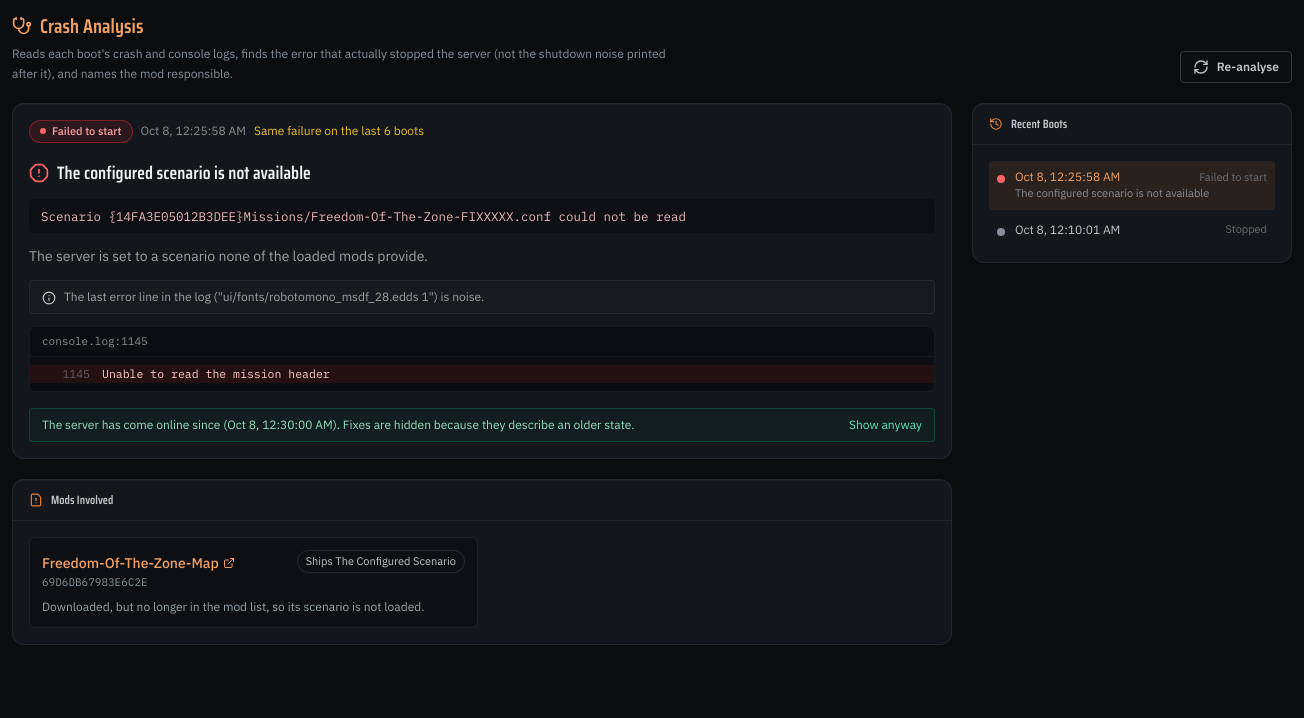
Test: CrashAnalysisModule › hides fixes for a failure the server has since recovered from
The image size is (1304, 718).
Expected: the text "has come online since" is shown, [42,417,227,432]
Expected: the button "Apply" is not shown
Click the button "Show anyway": coordinates (885, 425) [849,417,922,433]
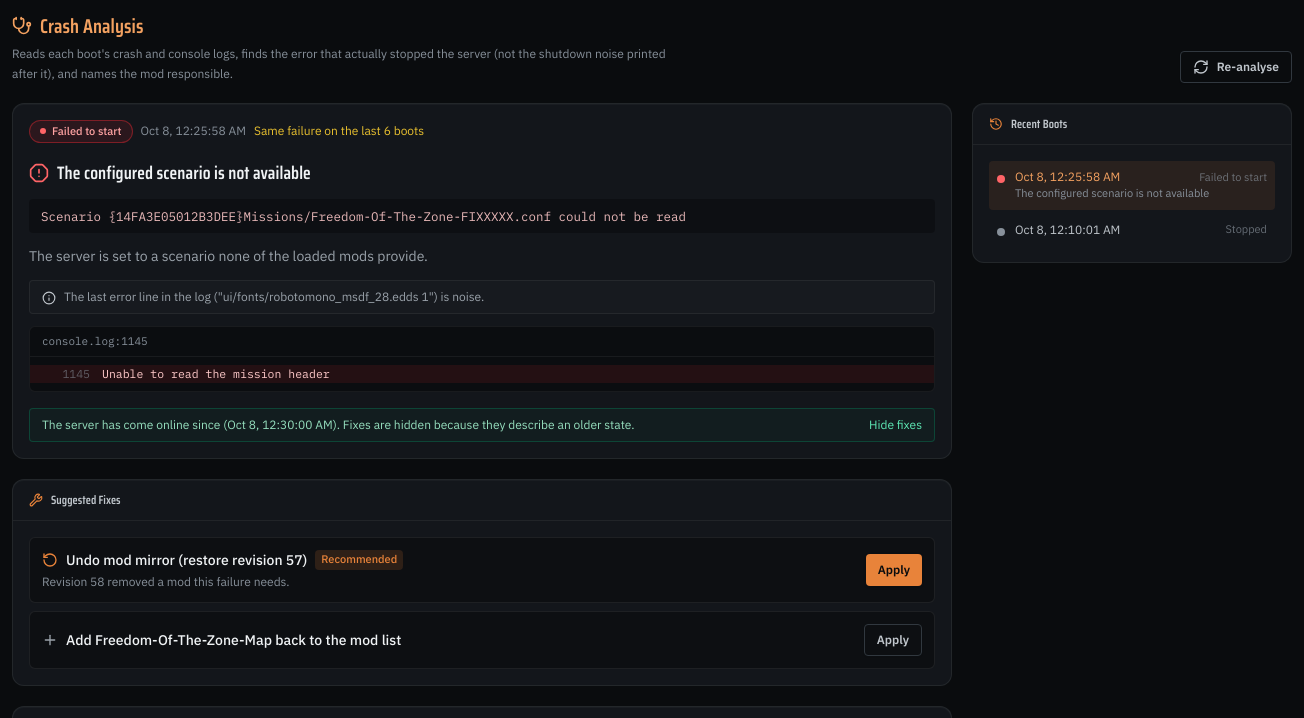
Now the number of buttons "Apply" is 2, box [866,554,922,586]; [864,624,922,656]
